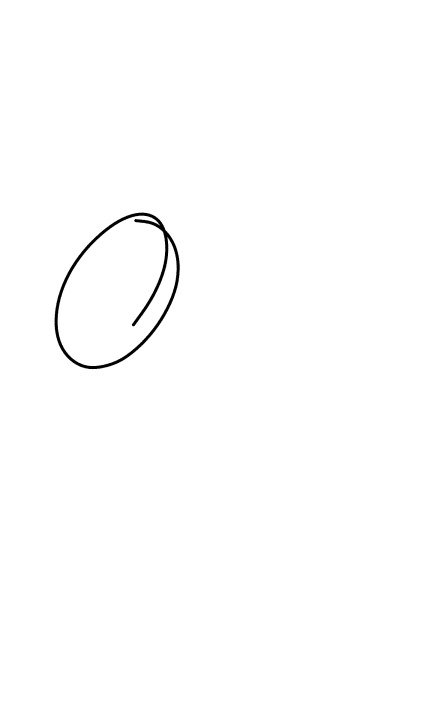Circle: (48, 207, 184, 374)
